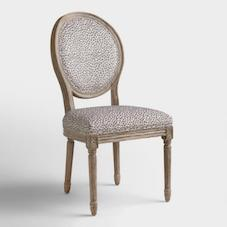chair: (35, 8, 175, 215)
